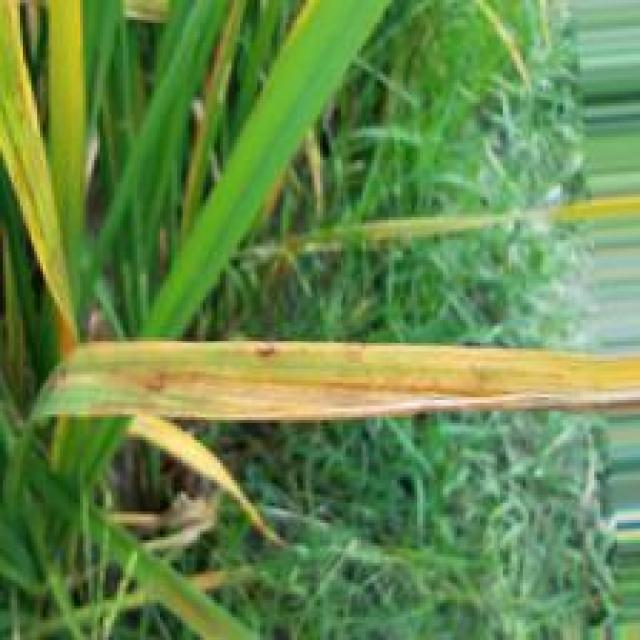Bacterial_Leaf_Blight: (91, 370, 517, 420), (251, 344, 279, 361), (467, 362, 488, 383), (346, 348, 366, 362)
